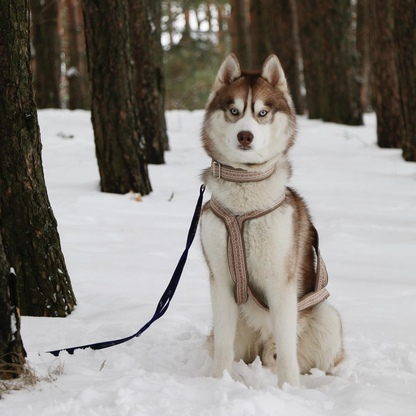husky: (191, 47, 350, 391)
